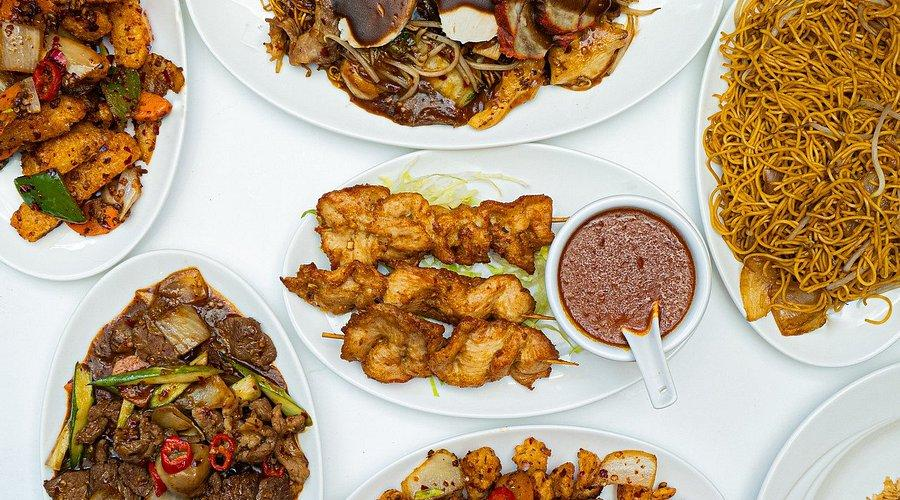Braised Crucian Carp: (283, 143, 690, 418), (691, 2, 897, 367), (38, 249, 318, 500), (188, 1, 724, 129), (2, 0, 189, 281)
